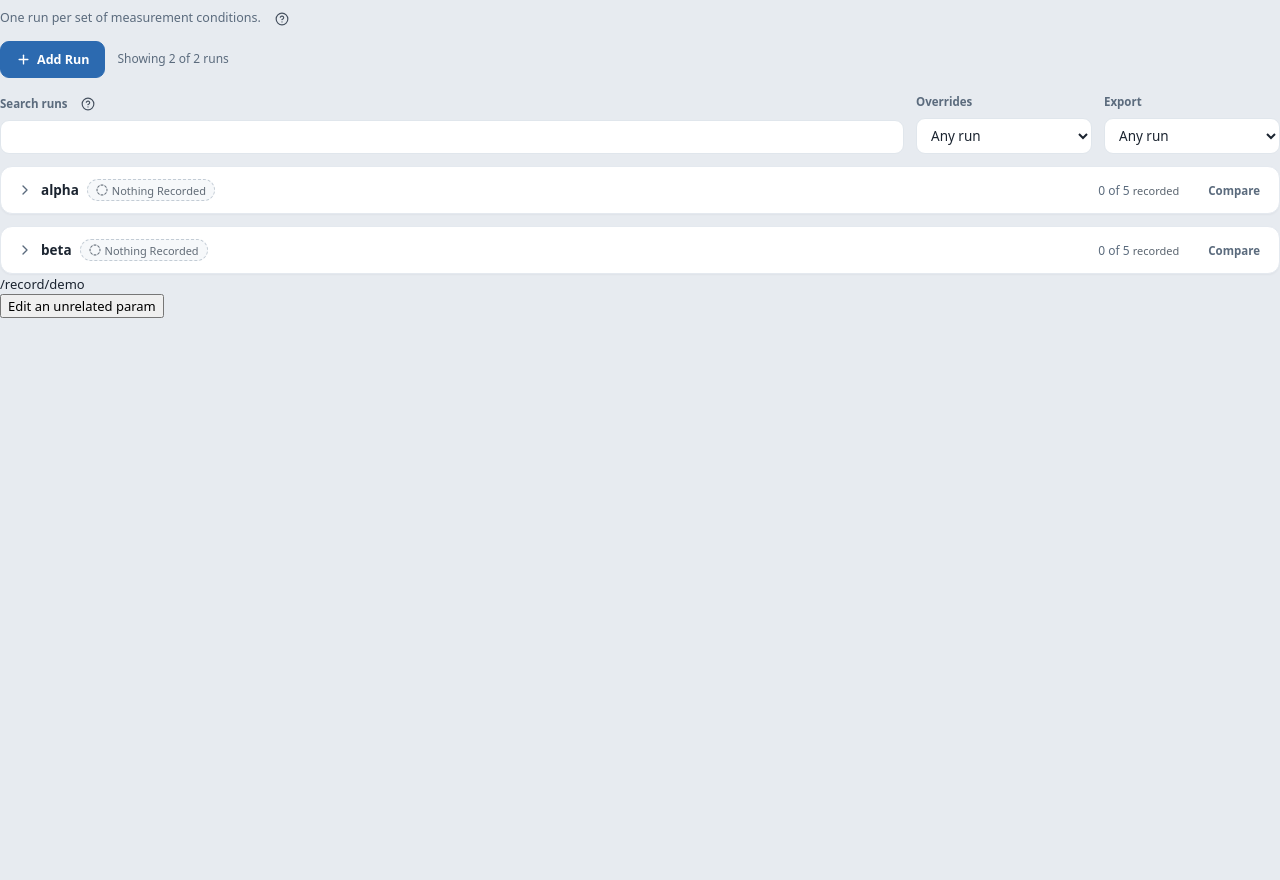
Scenario: list and search recovery › a search that now matches nothing says so WITHOUT claiming the record is empty
Check: the text "Showing 2 of 2 runs" is shown, box x1=117 y1=50 x2=229 y2=69
In the search field labelled "Search runs": (452, 137) x1=0 y1=120 x2=904 y2=154, type "alpha"
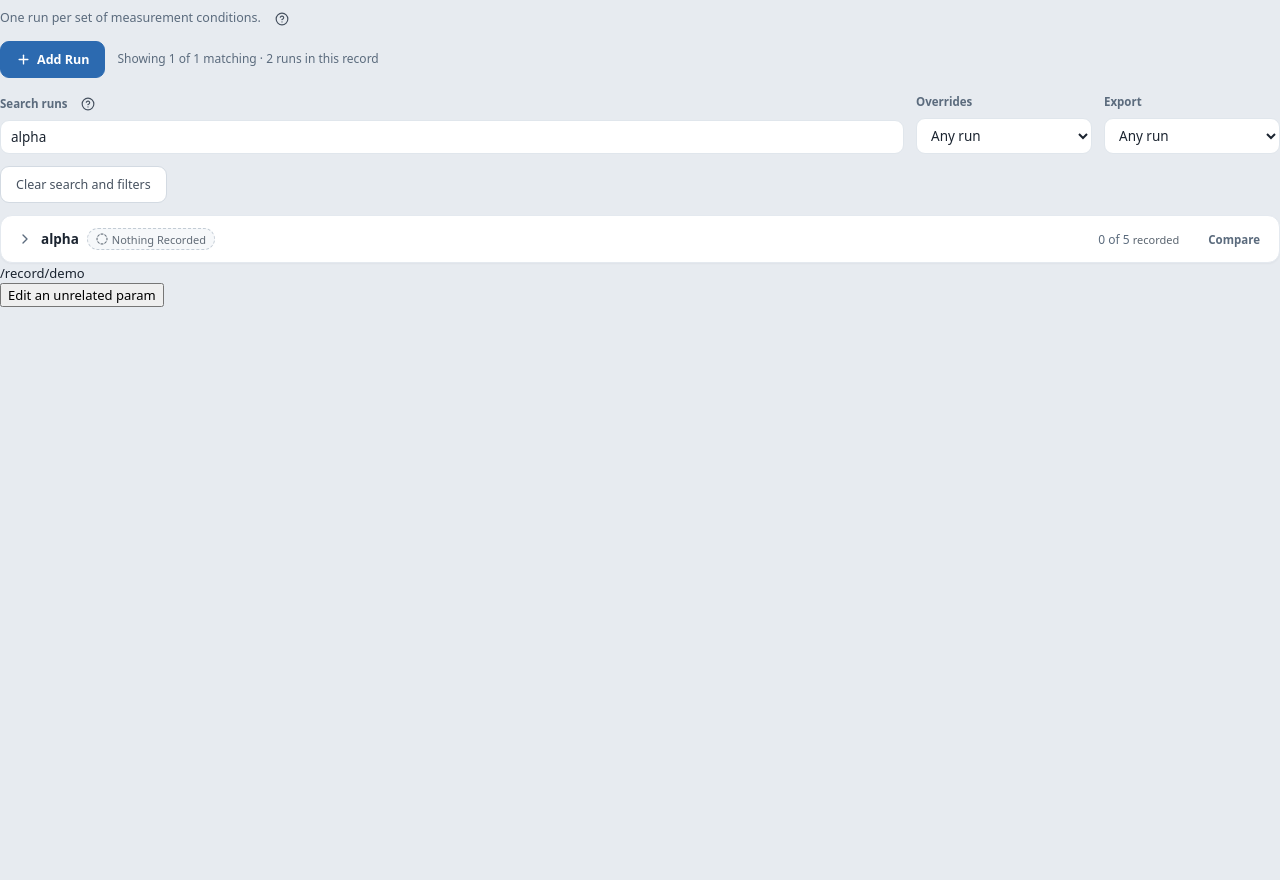
Click the button named "Open ": (33, 248) x1=1 y1=216 x2=1195 y2=262
(page scrolled)
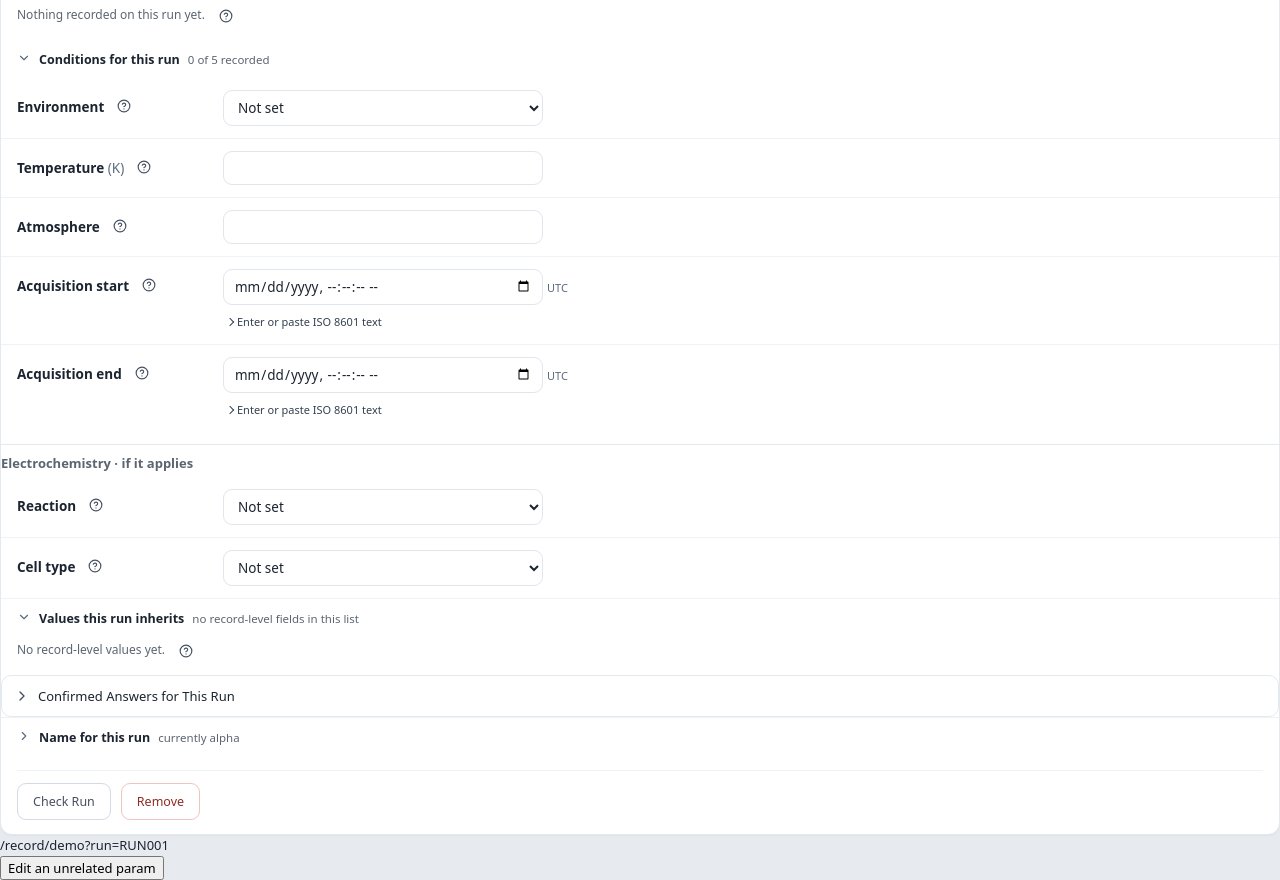
Click the button "Remove": (160, 802) x1=121 y1=783 x2=200 y2=820
(page scrolled)
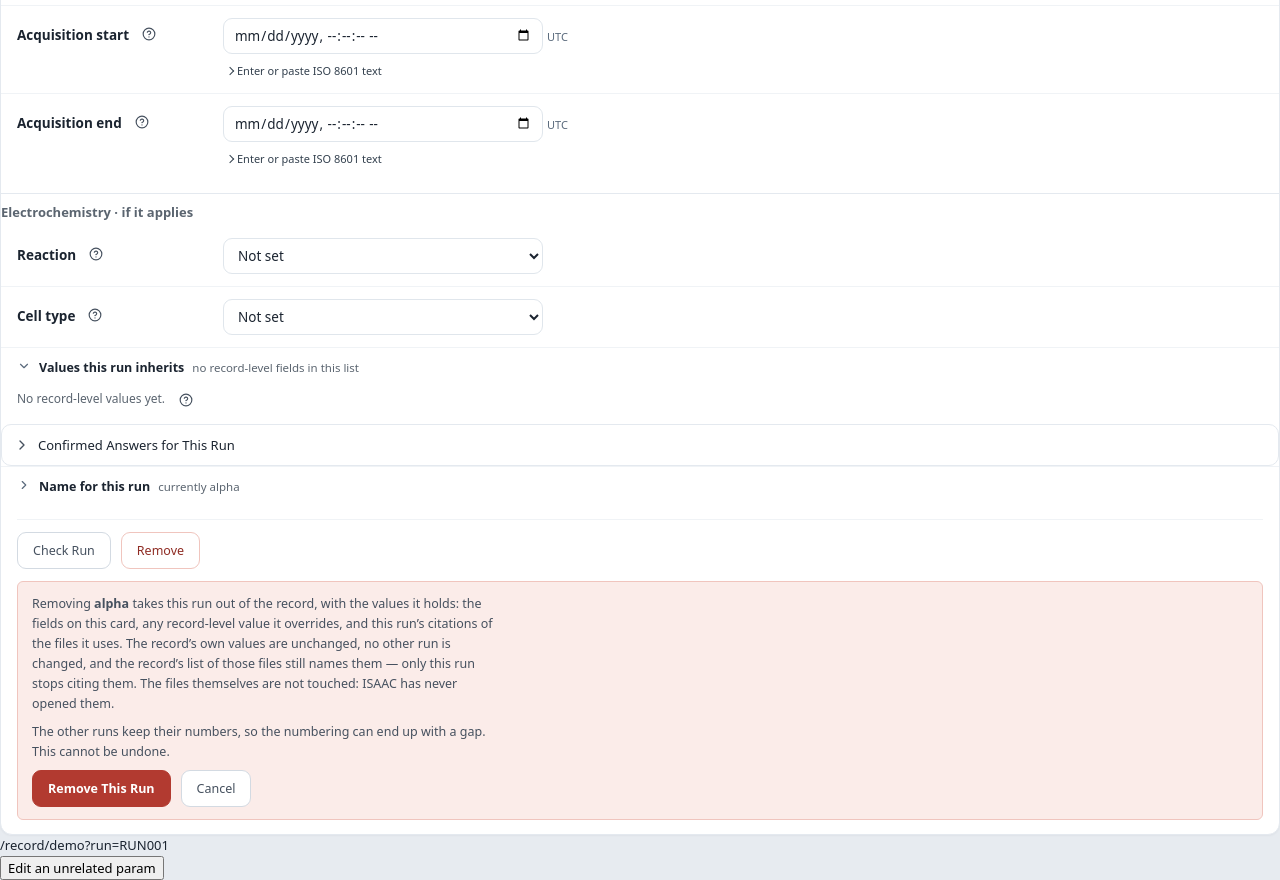
Click the button "Remove This Run": (101, 789) x1=32 y1=770 x2=171 y2=807
(page scrolled)
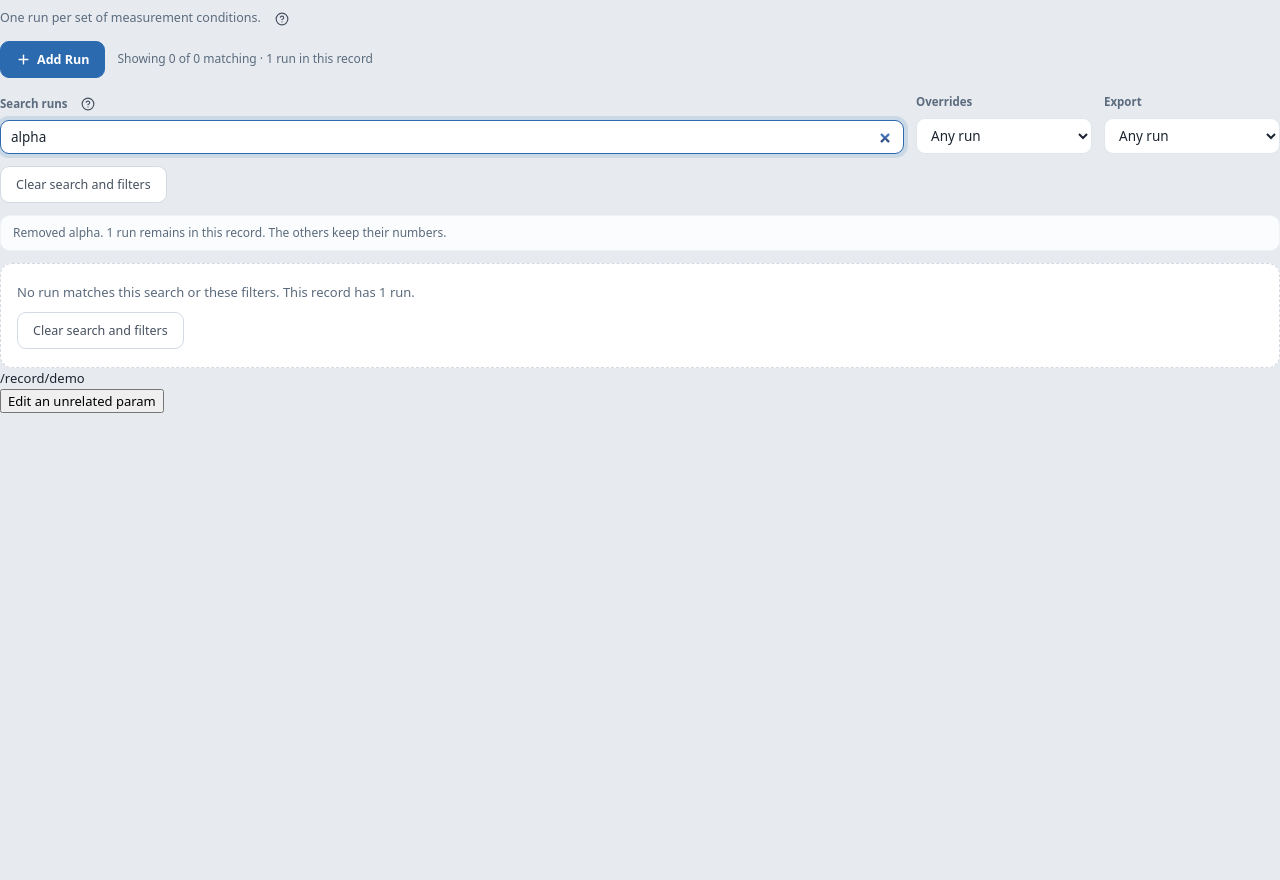
Check: the text "No run matches this search or these filters" is shown, box x1=17 y1=283 x2=379 y2=301
Check: the text "This record has 1 run." is shown, box x1=17 y1=283 x2=415 y2=301
Check: the number of buttons "Clear search and filters" is 2, box x1=0 y1=166 x2=167 y2=203; x1=17 y1=312 x2=184 y2=349
